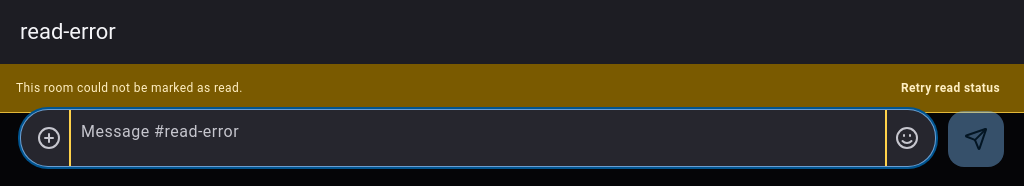
Test: ChatView channel switching › surfaces and retries a mark-read failure without hiding hydrated history
Click the button "Retry read status" at (950, 88), box [893, 72, 1008, 104]
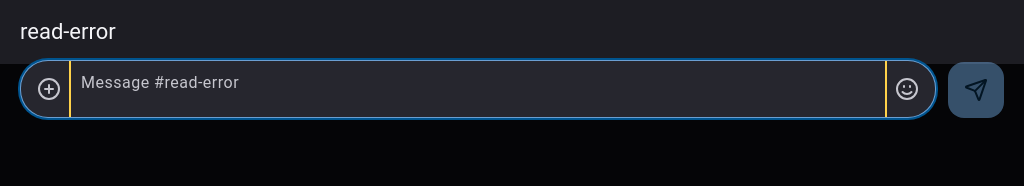
Expected: the text "This room could not be marked as read" is gone
